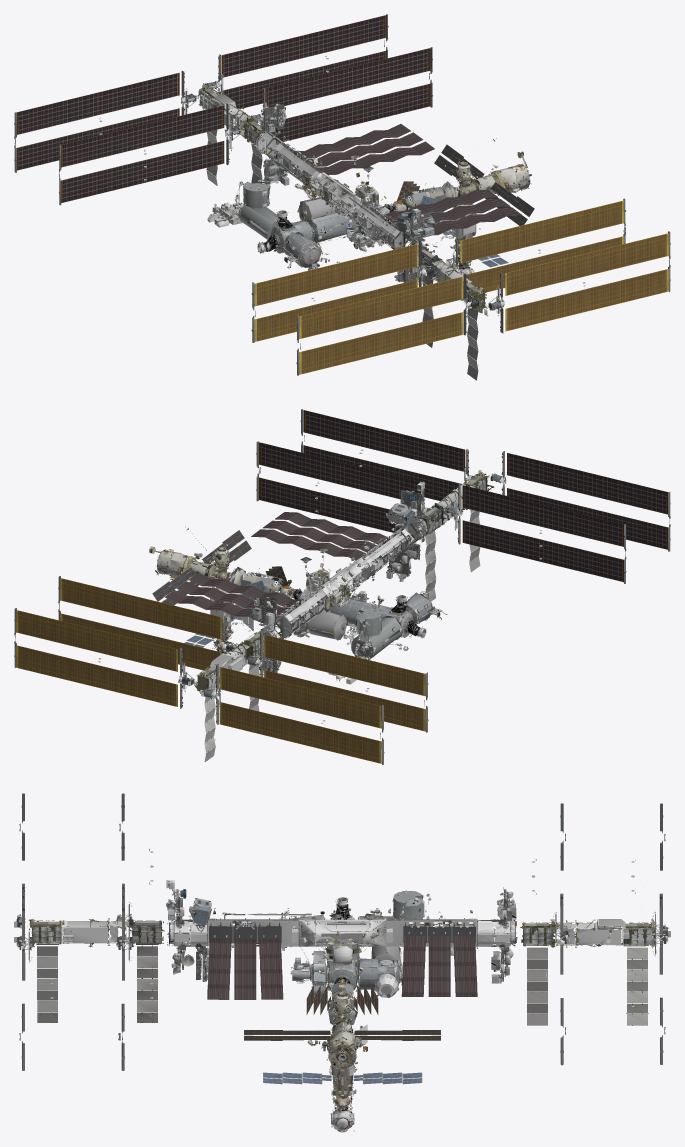
Rendered from iss-hd.glb.
3 renders of one model, top to bottom at view 1: azimuth 30°, elevation 25°; view 2: azimuth 150°, elevation 25°; view 3: azimuth 270°, elevation 25°, orthographic. The views are drawn at different scales.
Visible parts, largest first — view 1: station, wing-S6-1B, wing-P4-4A, wing-S6-3B, wing-P4-2A, wing-S4-1A, wing-P6-2B, wing-P6-4B, wing-S4-3A; view 2: station, wing-P6-2B, wing-S4-1A, wing-P6-4B, wing-S4-3A, wing-P4-4A, wing-S6-3B, wing-P4-2A, wing-S6-1B; view 3: station, wing-S4-3A, wing-P6-4B, wing-S6-1B, wing-P4-2A, wing-S4-1A.
Boxes of the visible parts, x1,y1,x2,y2 form: station: [195, 83, 534, 380]; wing-S6-1B: [488, 231, 670, 333]; wing-P4-4A: [59, 103, 241, 205]; wing-S6-3B: [296, 273, 481, 375]; wing-P4-2A: [249, 47, 432, 142]; wing-S4-1A: [251, 241, 437, 342]; wing-P6-2B: [14, 71, 196, 172]; wing-P6-4B: [203, 14, 388, 109]; wing-S4-3A: [449, 198, 625, 292]; station: [149, 470, 494, 761]; wing-P6-2B: [201, 664, 384, 764]; wing-S4-1A: [446, 483, 626, 583]; wing-P6-4B: [14, 608, 194, 708]; wing-S4-3A: [256, 441, 429, 542]; wing-P4-4A: [245, 631, 428, 732]; wing-S6-3B: [490, 451, 670, 551]; wing-P4-2A: [58, 576, 237, 670]; wing-S6-1B: [300, 409, 474, 509]; station: [20, 879, 655, 1132]; wing-S4-3A: [113, 912, 153, 1070]; wing-P6-4B: [631, 906, 670, 1064]; wing-S6-1B: [14, 912, 53, 1070]; wing-P4-2A: [560, 906, 571, 1065]; wing-S4-1A: [116, 793, 153, 951].
Bounding box in the file's own units: 7.46 × 3.12 × 10.08.
Materials: 42 (40 with a texture image).
